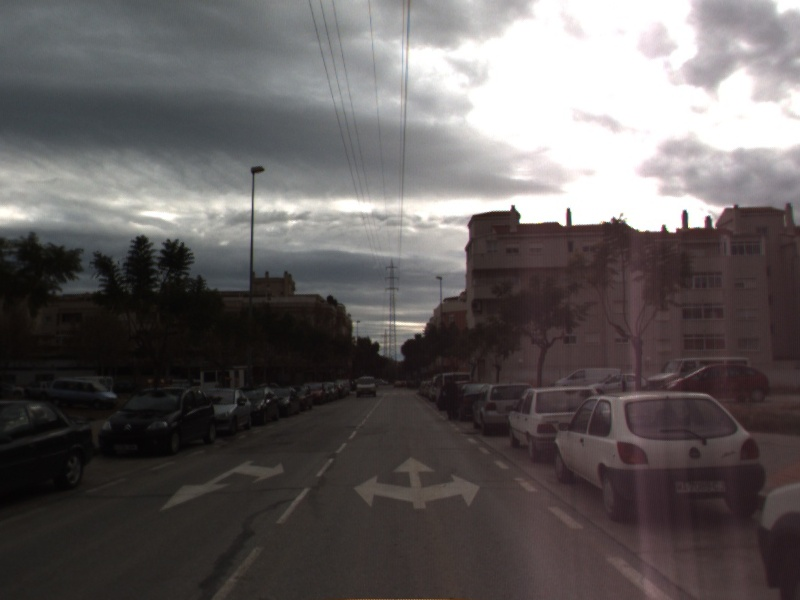STRAIGHT_LEFT_RIGHT: (351, 454, 483, 511)
